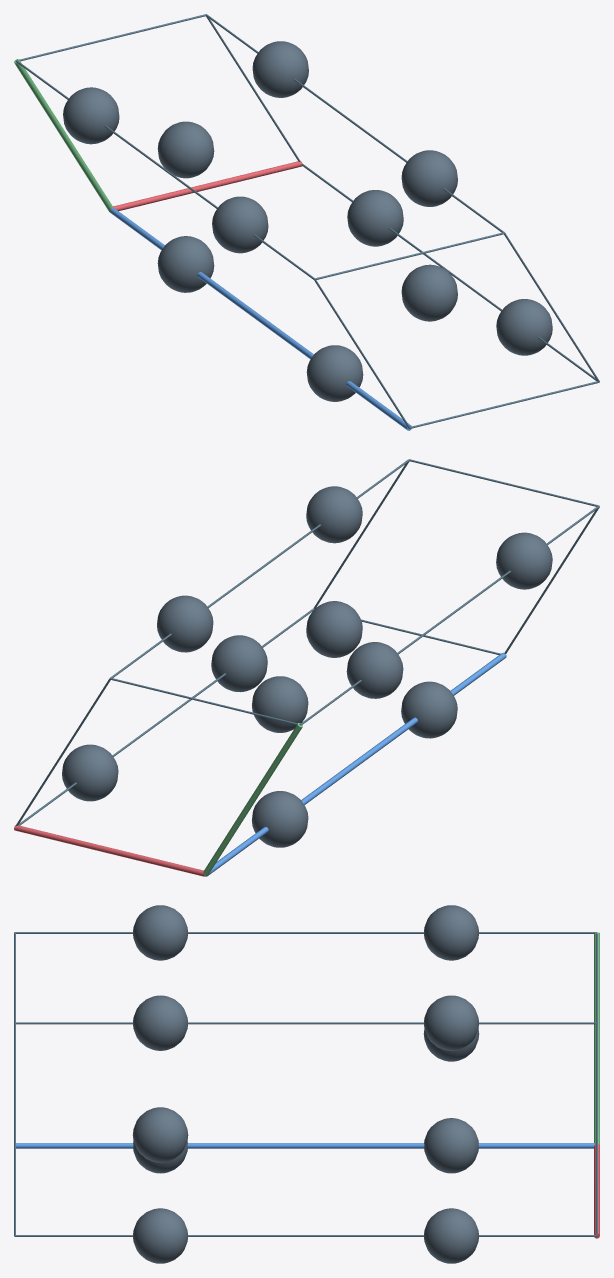
The model's file is nguyen-to-c.glb.
3 renders of one model, top to bottom at view 1: azimuth 30°, elevation 25°; view 2: azimuth 150°, elevation 25°; view 3: azimuth 270°, elevation 25°, orthographic. The views are drawn at different scales.
Visible parts, largest first — view 1: C1 · C · 1 (×8), Ô mạng và các trục a, b, c, C2 · C · 1 (×2); view 2: C1 · C · 1 (×8), Ô mạng và các trục a, b, c, C2 · C · 1 (×2); view 3: C1 · C · 1 (×8), Ô mạng và các trục a, b, c, C2 · C · 1 (×2).
Boxes of the visible parts, bbox=[...] form: C1 · C · 1 (×8): bbox=[63, 41, 552, 401]; Ô mạng và các trục a, b, c: bbox=[14, 14, 599, 430]; C2 · C · 1 (×2): bbox=[157, 121, 457, 321]; C1 · C · 1 (×8): bbox=[62, 486, 552, 847]; Ô mạng và các trục a, b, c: bbox=[14, 459, 599, 876]; C2 · C · 1 (×2): bbox=[252, 601, 362, 732]; C1 · C · 1 (×8): bbox=[133, 905, 478, 1263]; Ô mạng và các trục a, b, c: bbox=[14, 932, 599, 1238]; C2 · C · 1 (×2): bbox=[132, 1029, 479, 1162].
Bounding box in the file's own units: 4.34 × 2.77 × 6.76.
